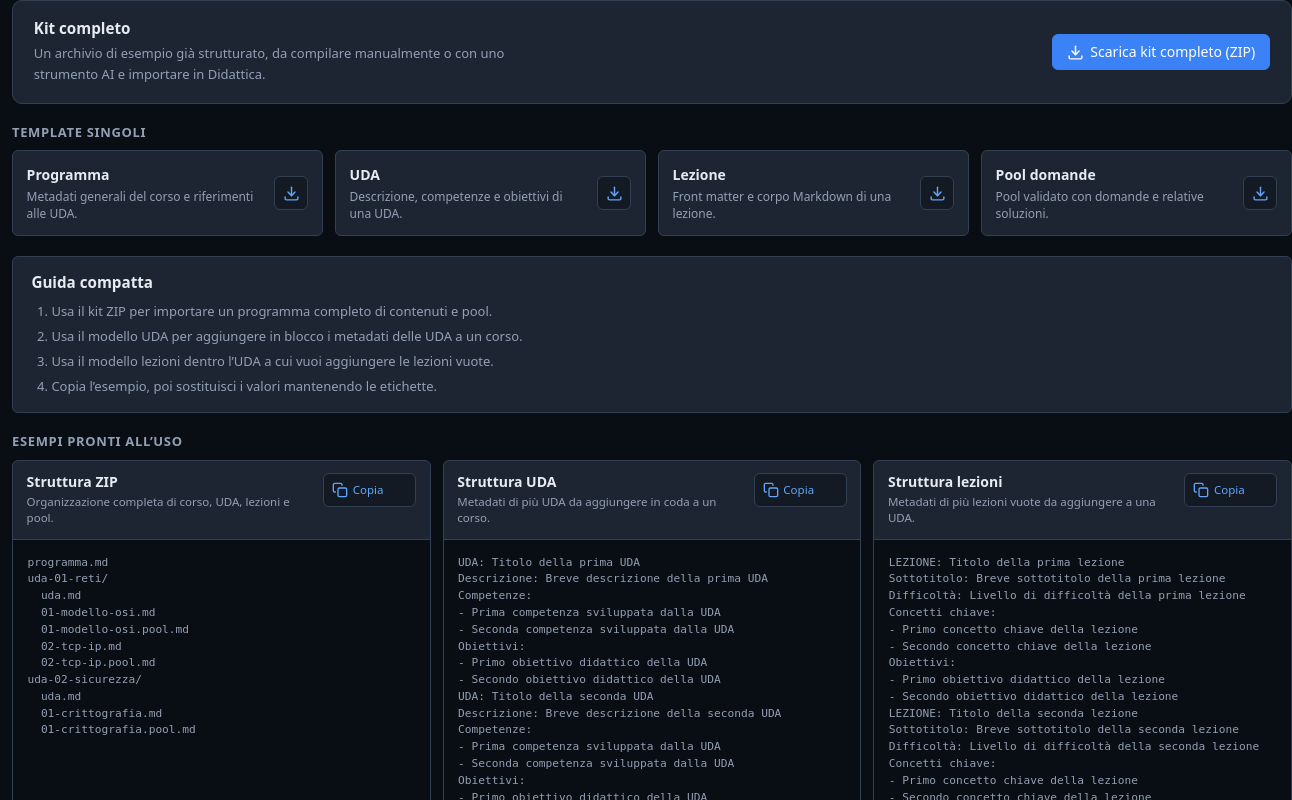
it: TemplateKitView › copies the canonical example and announces the real outcome
Click the button with aria-label "Copia Struttura UDA" at (800, 490), box [754,473,847,507]
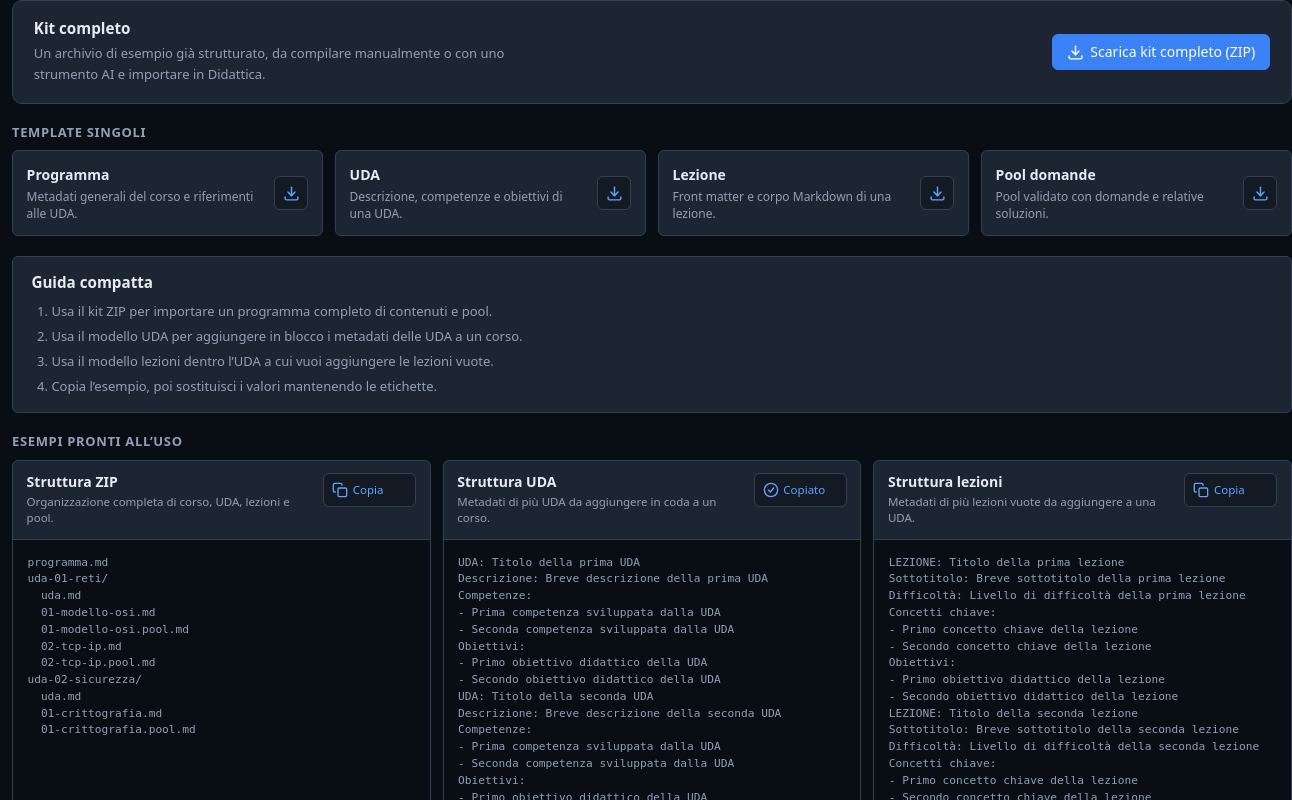
Now the button with aria-label "Struttura UDA: copiato" reads "Copiato", box [754,473,847,507]
